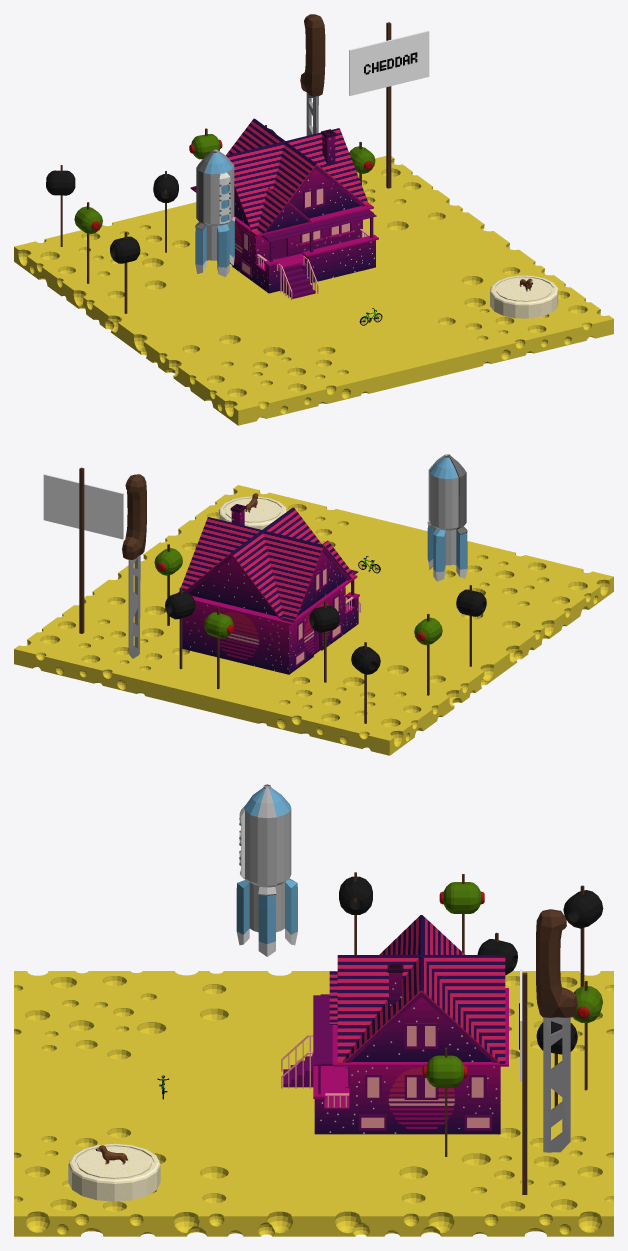
3 views of the same model, one above another, from view 1: azimuth 30°, elevation 25°; view 2: azimuth 150°, elevation 25°; view 3: azimuth 270°, elevation 25° (orthographic). The views are drawn at different scales.
Parts seen in each view (by area): view 1: Cube.022, Cube.156, Cube.023, OBJRANDOM_ROCKETSHIP, Cylinder.016, Cube.024, Sphere.017, Sphere.016, Sphere.018, Sphere.020, Sphere.022, Sphere.019; view 2: Cube.022, Cube.156, Cube.023, OBJRANDOM_ROCKETSHIP, Cube.024, Cylinder.016, Sphere.021, Sphere.017, Sphere.020, Sphere.016, Sphere.022, Sphere.018 (+1 smaller); view 3: Cube.022, Cube.156, OBJRANDOM_ROCKETSHIP, Cube.024, Cylinder.016, Cube.023, Sphere.016, Sphere.019, Sphere.018, Sphere.017, Sphere.022, Sphere.020 (+1 smaller).
Boxes of the visible parts, x1,y1,x2,y2 form: Cube.022: (14,156,613,425); Cube.156: (190,118,378,300); Cube.023: (349,22,429,188); OBJRANDOM_ROCKETSHIP: (195,149,235,277); Cylinder.016: (490,275,558,318); Cube.024: (300,14,325,135); Sphere.017: (110,232,140,313); Sphere.016: (46,165,75,246); Sphere.018: (74,202,102,283); Sphere.020: (153,171,178,252); Sphere.022: (189,128,222,159); Sphere.019: (349,142,375,184); Cube.022: (14,485,613,755); Cube.156: (178,504,360,674); Cube.023: (43,467,123,633); OBJRANDOM_ROCKETSHIP: (427,454,467,581); Cube.024: (122,474,146,658); Cylinder.016: (218,496,286,529); Sphere.021: (165,587,195,668); Sphere.017: (456,585,486,666); Sphere.020: (309,601,339,682); Sphere.016: (351,642,380,723); Sphere.022: (203,607,234,689); Sphere.018: (414,614,442,695); Cube.022: (14,971,613,1236); Cube.156: (281,915,508,1134); OBJRANDOM_ROCKETSHIP: (236,784,297,956); Cube.024: (536,909,577,1152); Cylinder.016: (68,1143,160,1201); Cube.023: (519,969,527,1194); Sphere.016: (563,885,603,986); Sphere.019: (422,1047,467,1156); Sphere.018: (439,874,484,953); Sphere.017: (339,872,372,954); Sphere.022: (573,981,602,1090); Sphere.020: (477,932,517,975).
Size of the model in its own units: 3917 by 2159 by 4000.
Materials: 35 (5 with a texture image).
